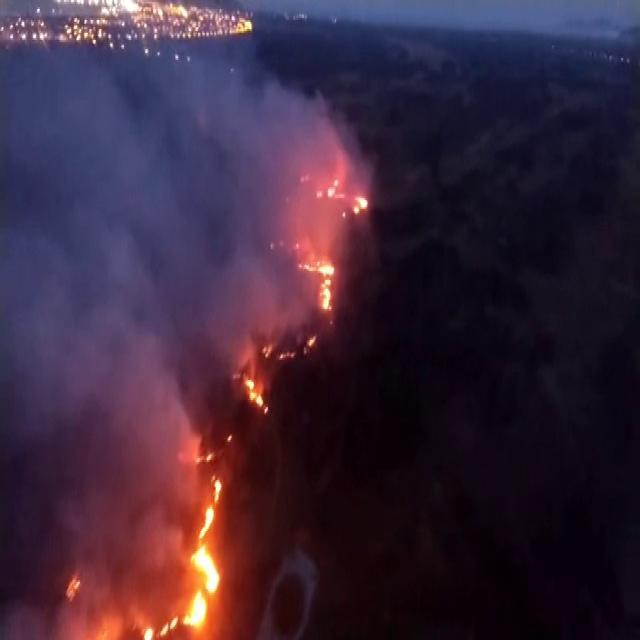Fire: (138, 452, 228, 640), (260, 322, 319, 364), (313, 176, 367, 218), (300, 247, 334, 313), (233, 360, 267, 415)
Smoke: (8, 11, 295, 209), (71, 216, 196, 464), (149, 34, 345, 154), (59, 454, 180, 554)
